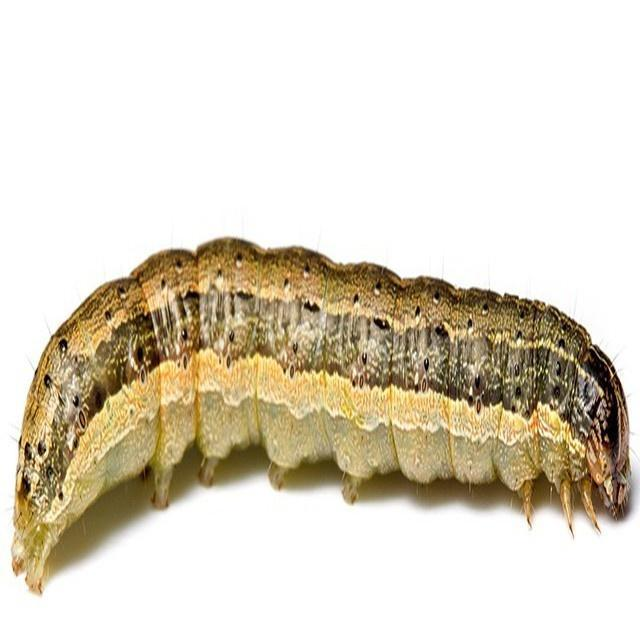Plaga: (10, 233, 640, 599)
